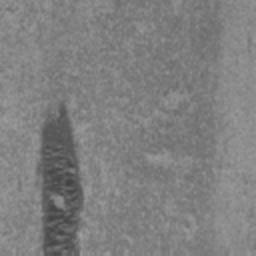Oxide scale of plate system: (35, 99, 88, 256)
